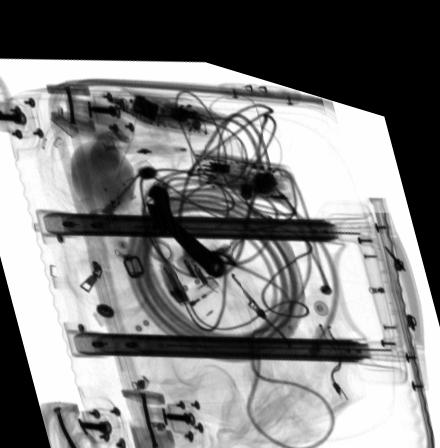Wrench: (146, 174, 225, 265)
